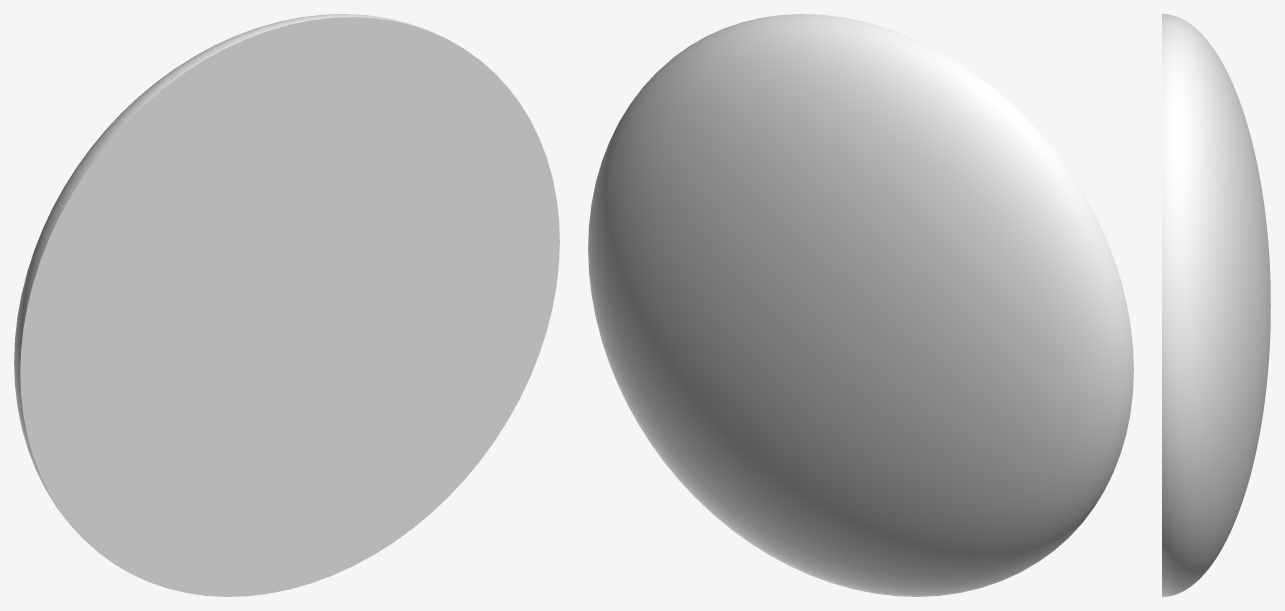
The model's file is Escudo.fbx.
3 views of the same model, side by side, from view 1: azimuth 30°, elevation 25°; view 2: azimuth 150°, elevation 25°; view 3: azimuth 270°, elevation 25° (orthographic). The views are drawn at different scales.
Parts seen in each view (by area): view 1: root; view 2: root; view 3: root.
Boxes of the visible parts, x1,y1,x2,y2 form: root: (14,14,559,596); root: (588,14,1133,596); root: (1162,14,1270,596).
Size of the model in its own units: 0.4112 by 0.4112 by 0.0766.
Materials: 1 (1 with a texture image).
